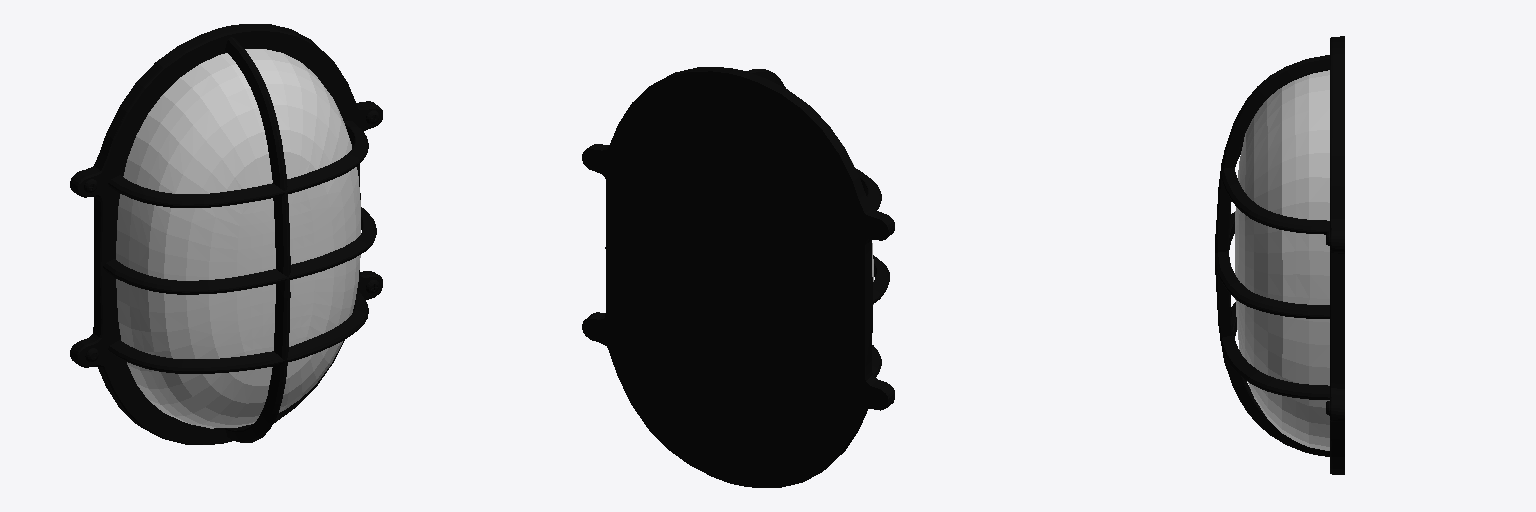
Rendered from lamp.obj.
3 views of the same model, side by side, from view 1: azimuth 30°, elevation 25°; view 2: azimuth 150°, elevation 25°; view 3: azimuth 270°, elevation 25° (orthographic).
Parts seen in each view (by area): view 1: Glass_low, Body_high, Screws_high; view 2: Body_high; view 3: Glass_low, Body_high.
Boxes of the visible parts, x1=… form: Glass_low: x1=116, y1=49, x2=360, y2=428; Body_high: x1=70, y1=24, x2=382, y2=444; Screws_high: x1=84, y1=110, x2=378, y2=361; Body_high: x1=582, y1=67, x2=894, y2=487; Glass_low: x1=1235, y1=70, x2=1329, y2=450; Body_high: x1=1215, y1=36, x2=1344, y2=474.
Size of the model in its own units: 0.2186 by 0.2787 by 0.0804.